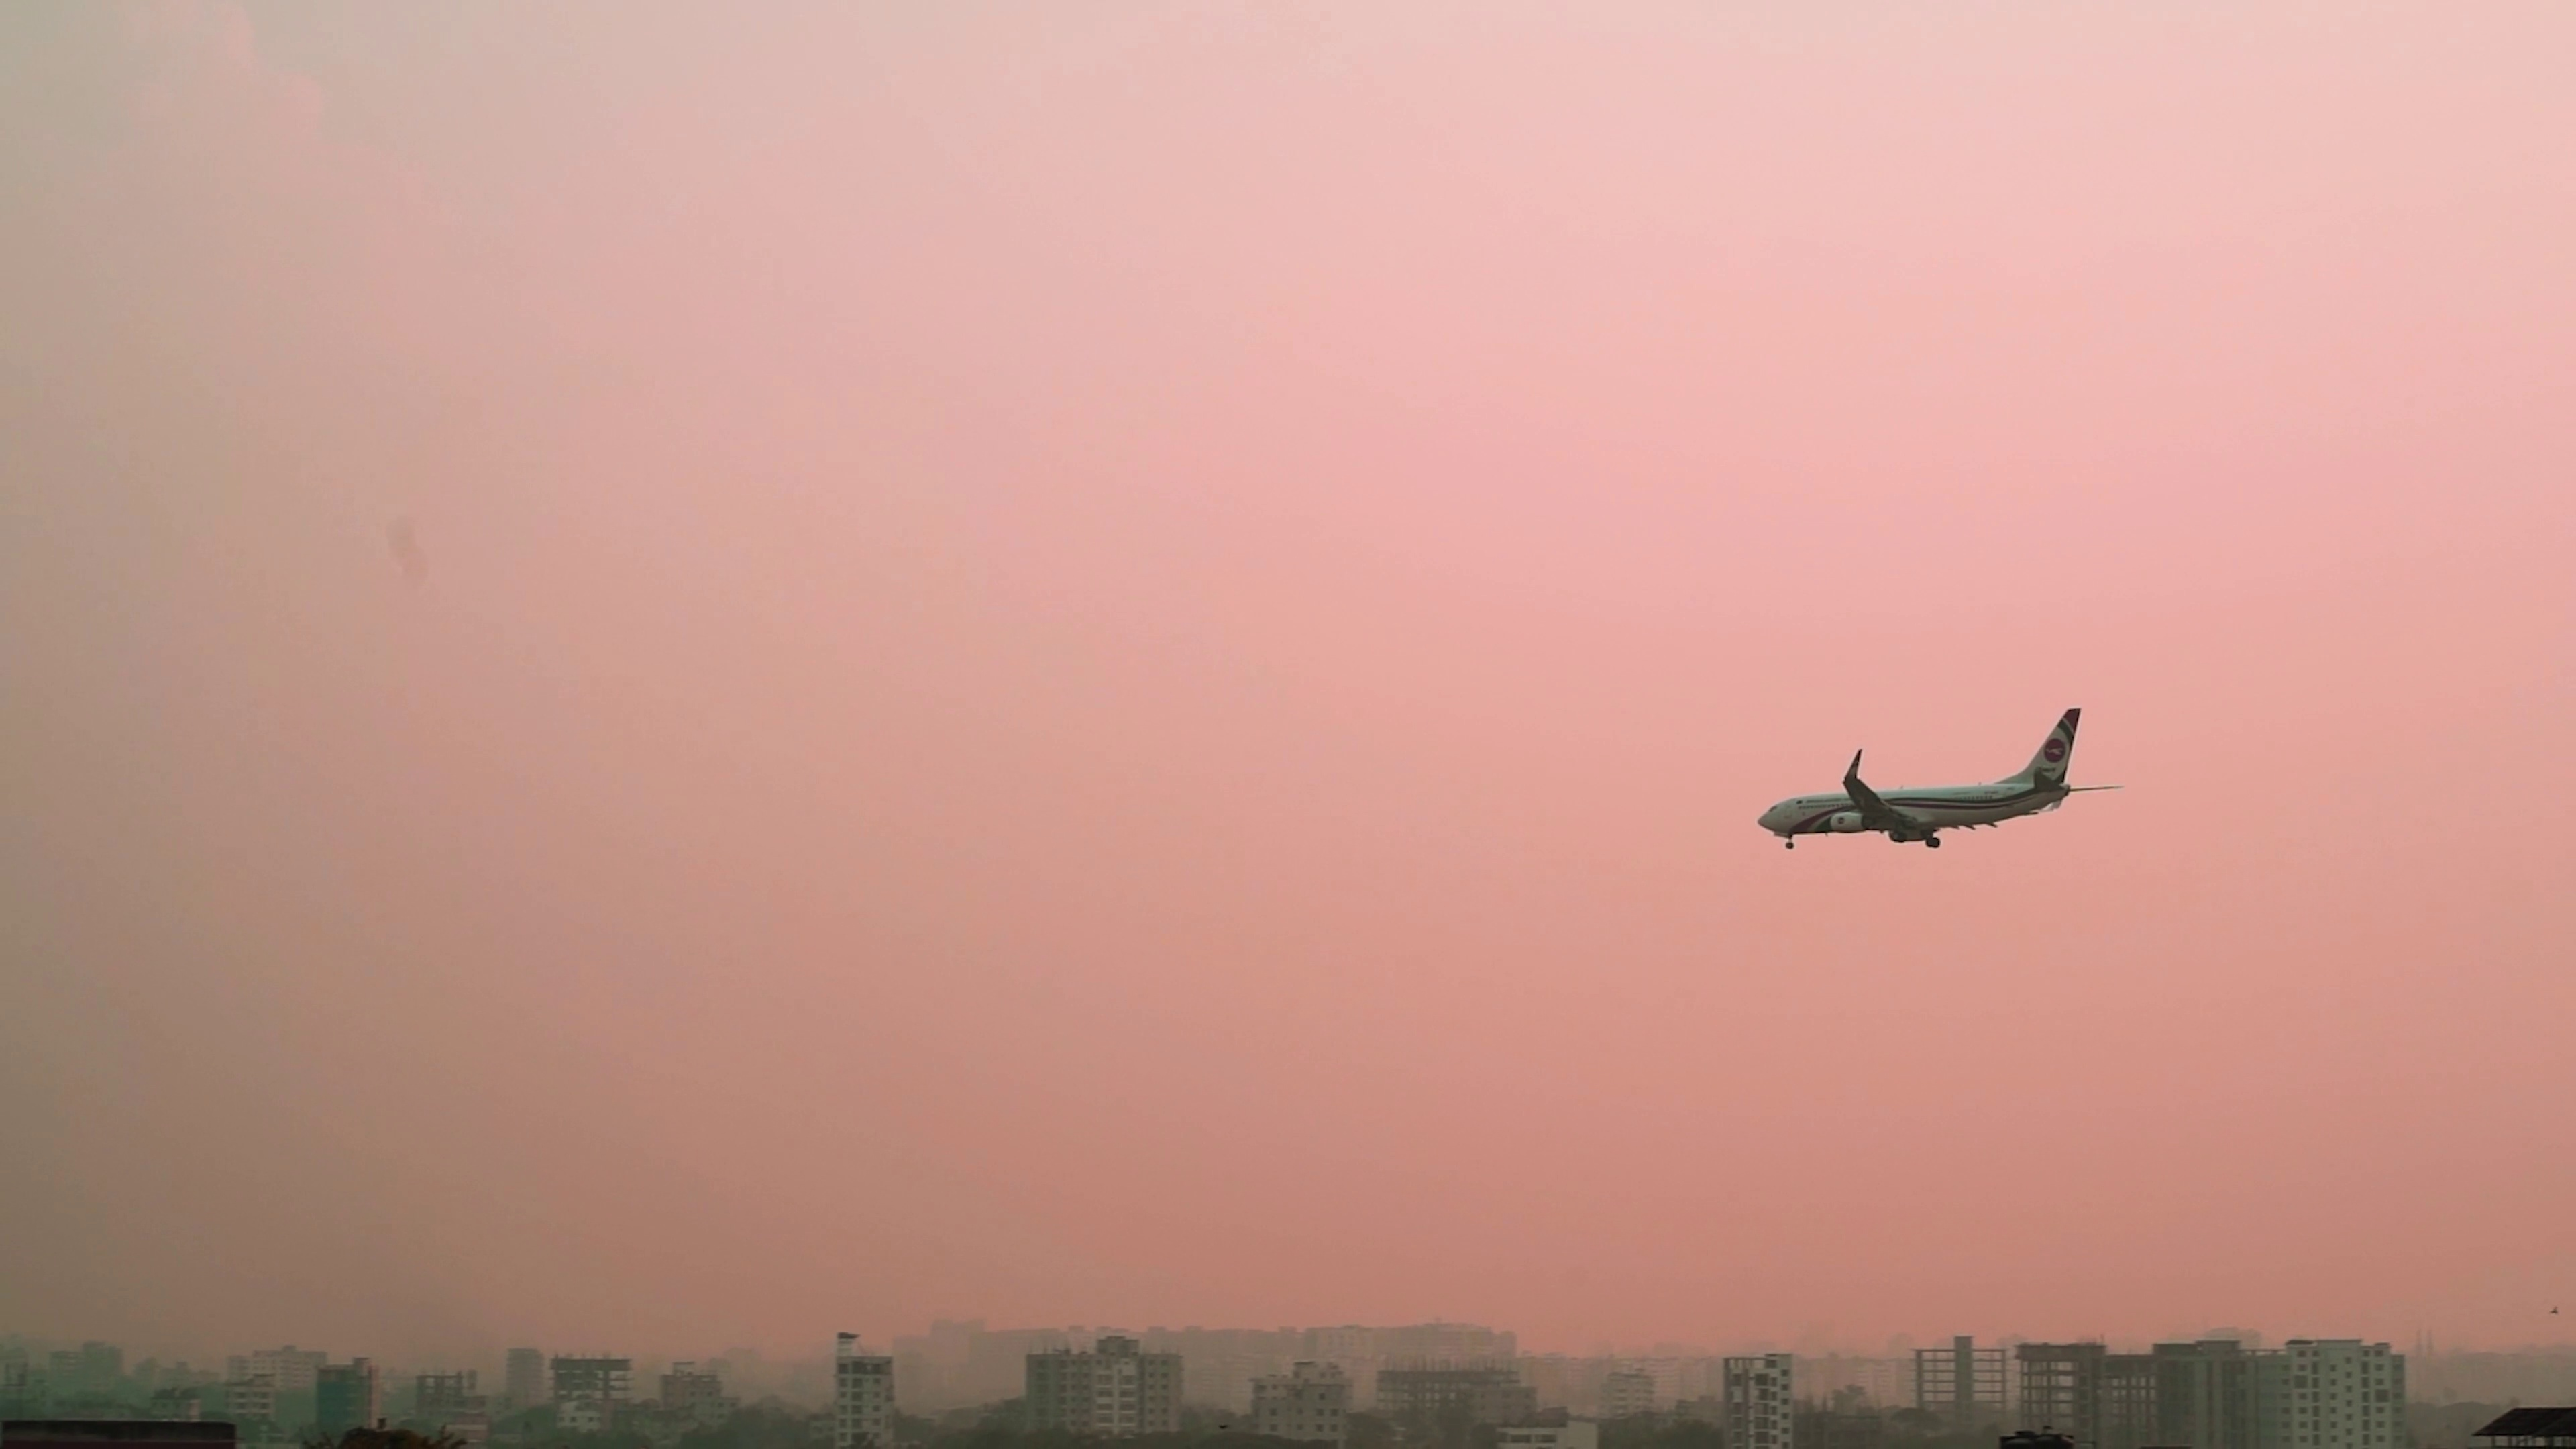plane: (1755, 708, 2125, 849)
